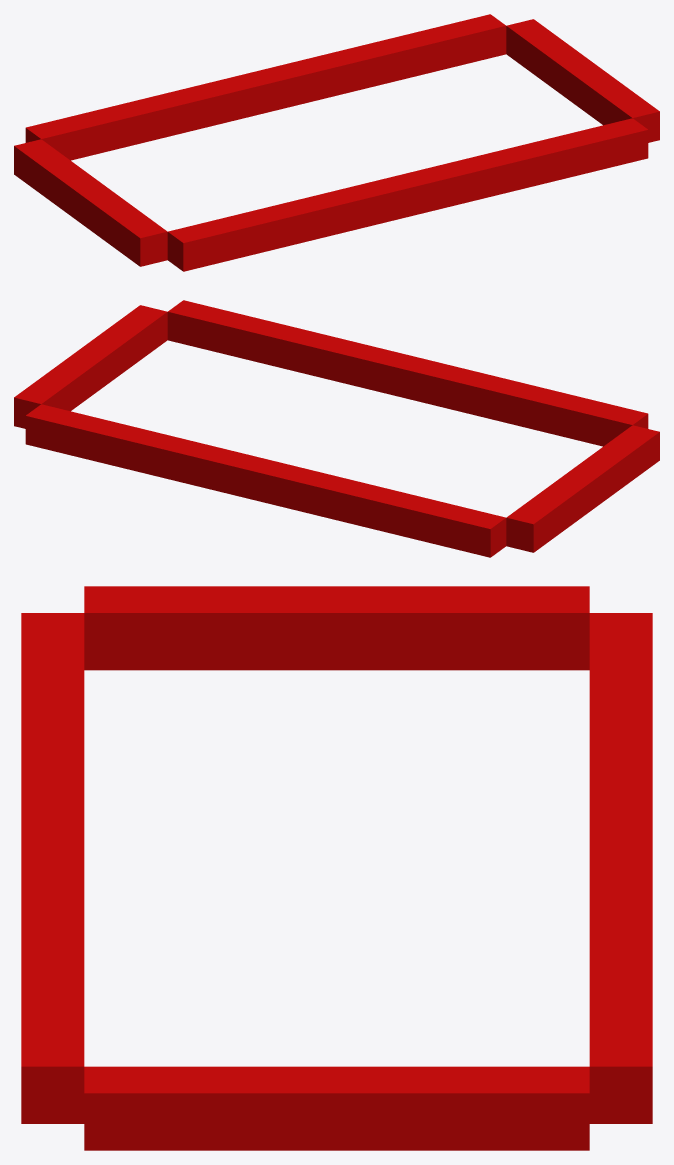
The model's file is accessories_head_headband.glb.
3 renders of one model, top to bottom at view 1: azimuth 30°, elevation 25°; view 2: azimuth 150°, elevation 25°; view 3: azimuth 270°, elevation 25°, orthographic. The views are drawn at different scales.
Parts seen in each view (by area): view 1: model_0; view 2: model_0; view 3: model_0.
Part boxes in pixels (x1,y1,x2,y2): model_0: (14, 14, 659, 271); model_0: (14, 300, 659, 557); model_0: (21, 586, 652, 1150).
Bounding box in the file's own units: 19 × 1 × 10.
